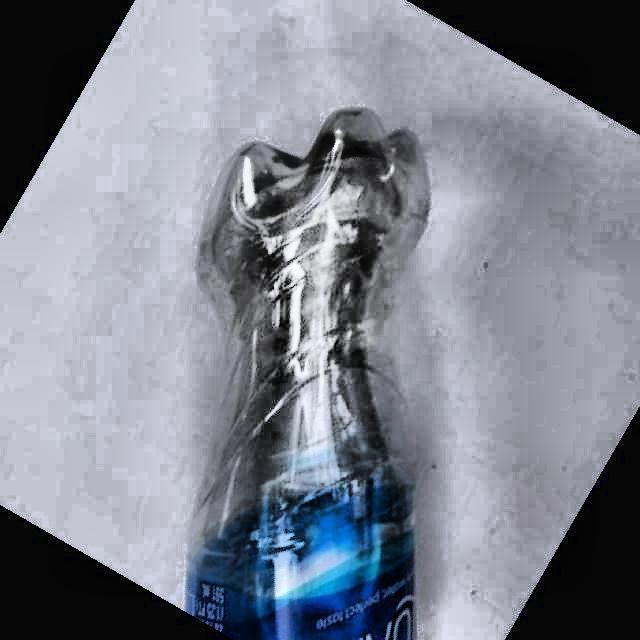plastic: (186, 110, 428, 640)
